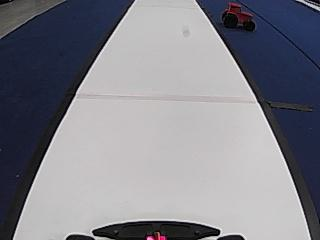Tracktor: (218, 0, 259, 35)
